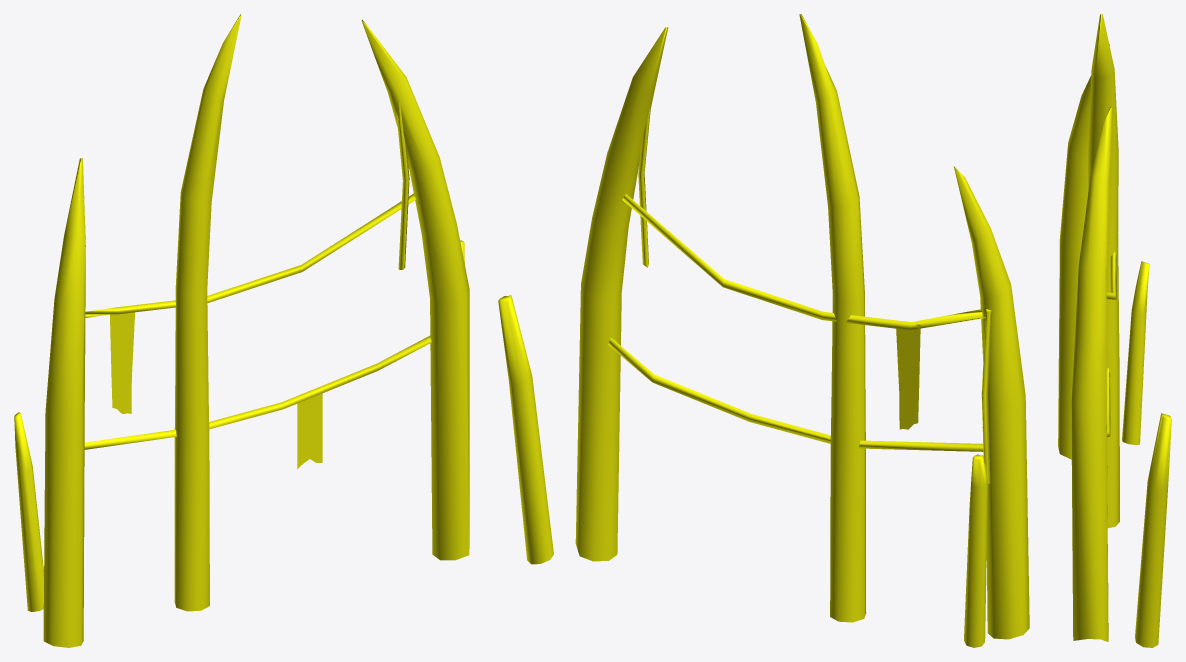
The model's file is camp_redthief_gate_02.glb.
The picture shows the model from 3 angles, left to right: view 1: azimuth 30°, elevation 25°; view 2: azimuth 150°, elevation 25°; view 3: azimuth 270°, elevation 25°; orthographic projection. The views are drawn at different scales.
Parts seen in each view (by area): view 1: camp_redthief_gate_02; view 2: camp_redthief_gate_02; view 3: camp_redthief_gate_02.
Part boxes in pixels (x1,y1,x2,y2): camp_redthief_gate_02: [14, 14, 469, 647]; camp_redthief_gate_02: [498, 14, 1029, 647]; camp_redthief_gate_02: [1058, 14, 1171, 647].
Size of the model in its own units: 9.05 by 10.82 by 2.08.
1 material, 1 textured.
